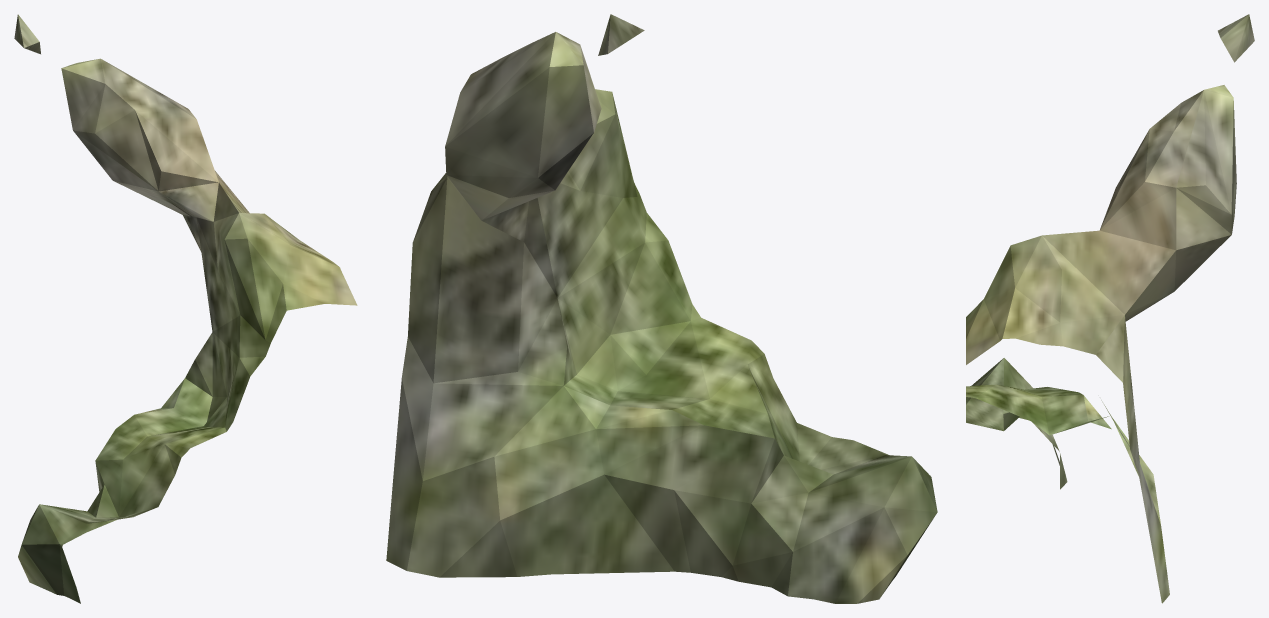
3 renders of one model, left to right at view 1: azimuth 30°, elevation 25°; view 2: azimuth 150°, elevation 25°; view 3: azimuth 270°, elevation 25°, orthographic. The views are drawn at different scales.
Bounding box in the file's own units: 1.99 × 2.82 × 1.51.
Materials: 1 (1 with a texture image).
